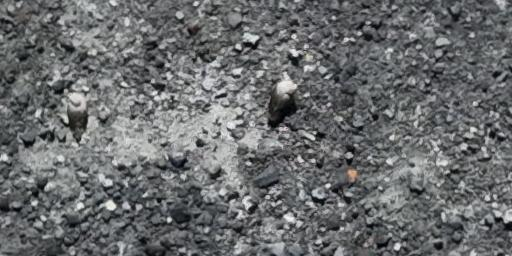skua: (258, 66, 311, 131)
